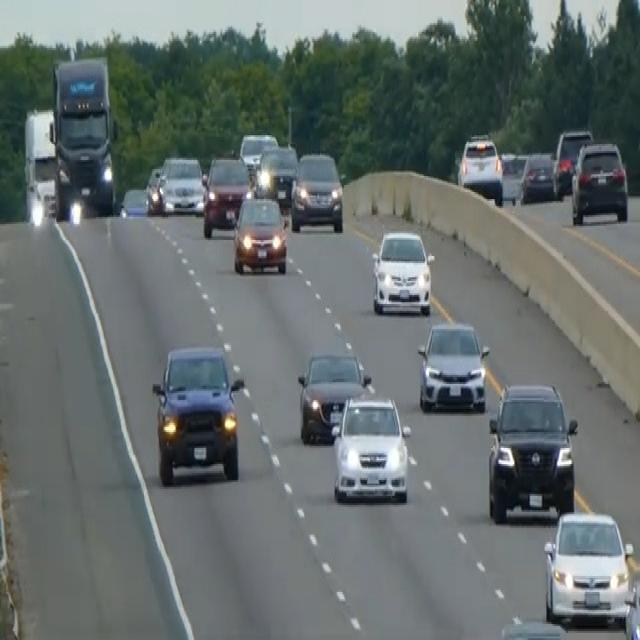car: (151, 342, 245, 486), (487, 378, 578, 522), (543, 508, 633, 626), (330, 393, 411, 503), (296, 348, 372, 444), (416, 318, 490, 412), (371, 226, 434, 316), (570, 138, 629, 225), (232, 192, 288, 276), (290, 149, 344, 233), (202, 151, 251, 237), (456, 132, 503, 204), (156, 153, 204, 215), (552, 126, 593, 198), (255, 143, 298, 205), (238, 130, 278, 181), (519, 149, 555, 203), (497, 615, 576, 638), (499, 149, 521, 203), (118, 185, 149, 219), (145, 164, 163, 214)
lorry: (49, 54, 118, 220)
